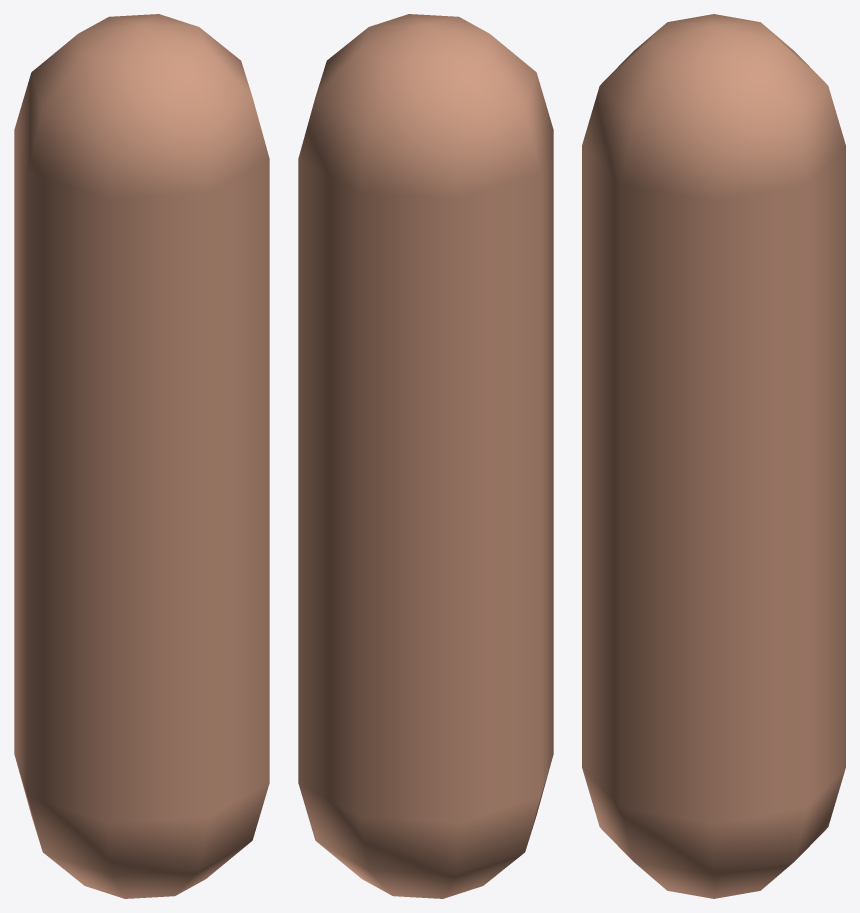
The model's file is character.glb.
The picture shows the model from 3 angles, left to right: view 1: azimuth 30°, elevation 25°; view 2: azimuth 150°, elevation 25°; view 3: azimuth 270°, elevation 25°; orthographic projection.
Visible parts, largest first — view 1: Body; view 2: Body; view 3: Body.
Boxes of the visible parts, x1,y1,x2,y2 form: Body: (14,14,269,898); Body: (298,14,553,898); Body: (582,14,845,898).
Bounding box in the file's own units: 50 × 180 × 50.
